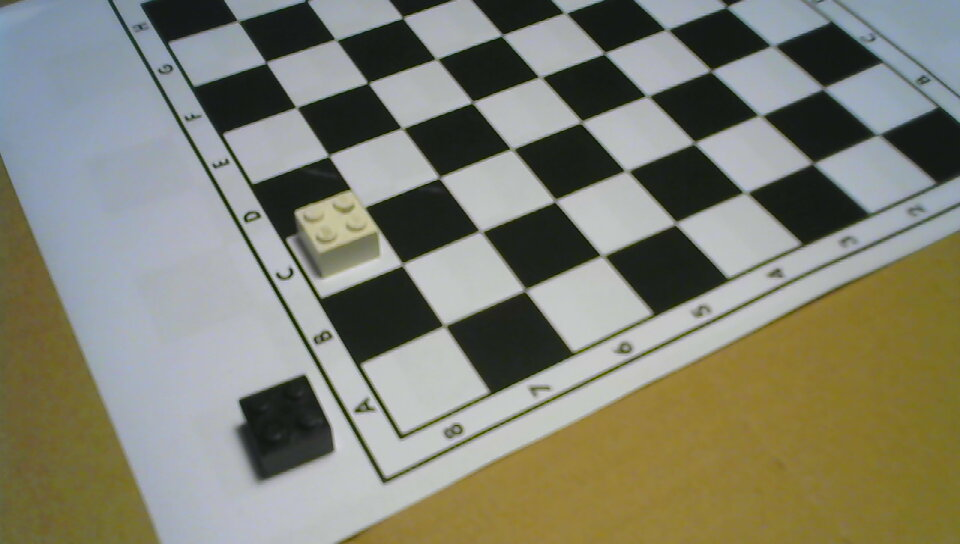bp: (237, 375, 331, 475)
wp: (294, 190, 383, 278)
